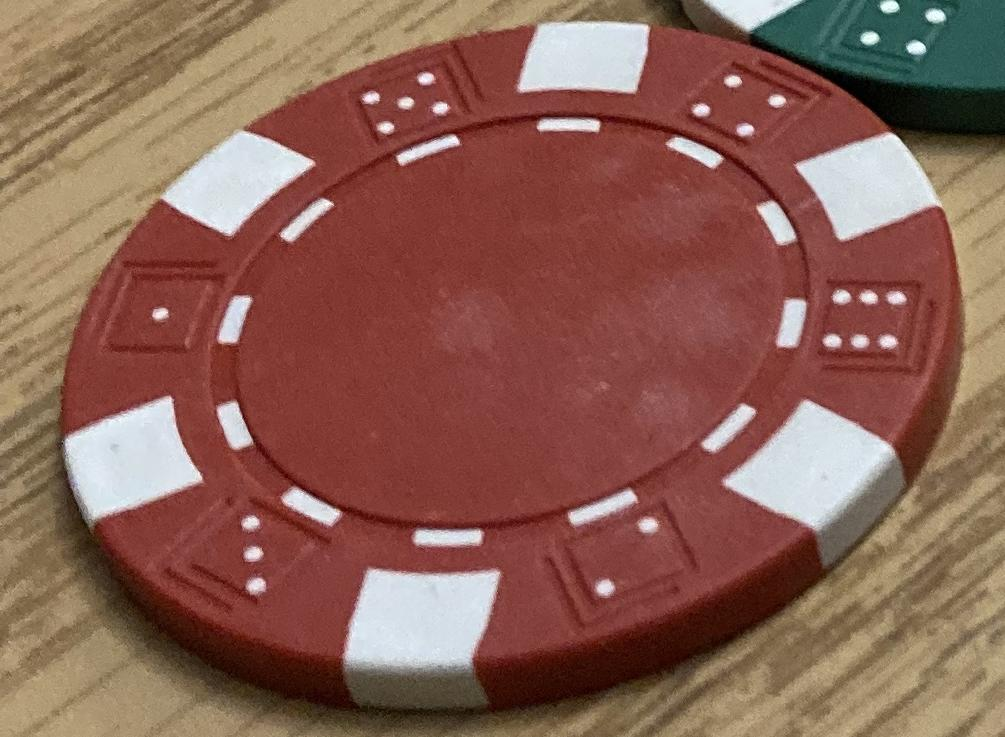Chip: (1, 1, 1005, 737)
